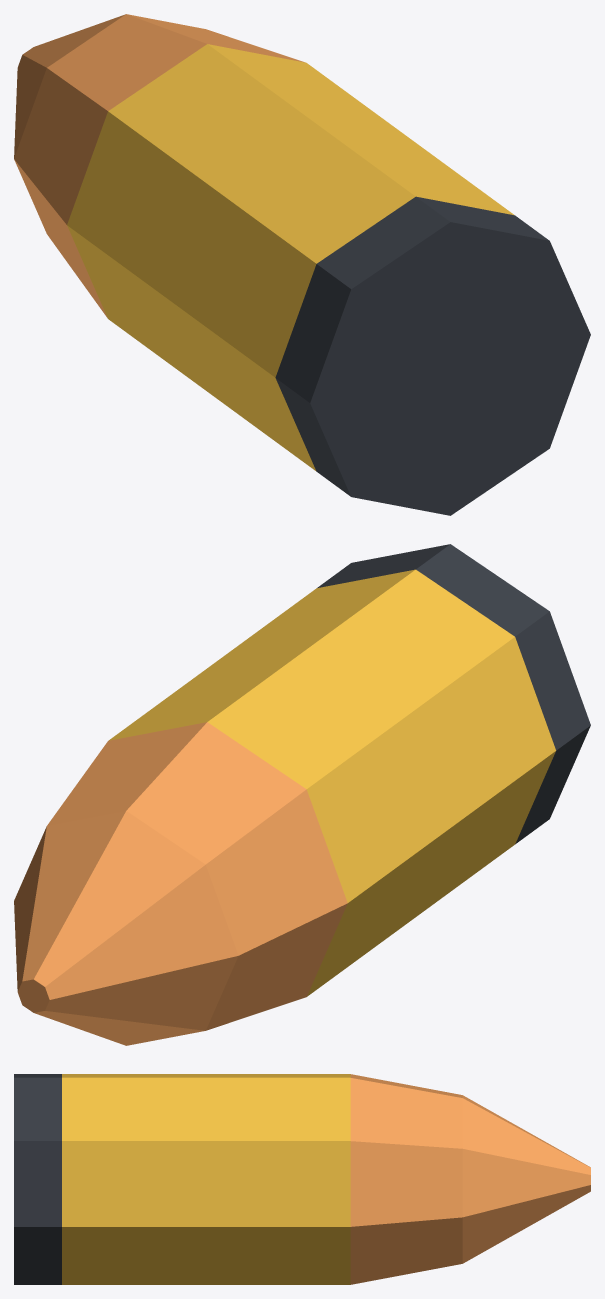
Rendered from X_BulletMermo.fbx.
3 renders of one model, top to bottom at view 1: azimuth 30°, elevation 25°; view 2: azimuth 150°, elevation 25°; view 3: azimuth 270°, elevation 25°, orthographic. The views are drawn at different scales.
Parts seen in each view (by area): view 1: X_BulletMermo; view 2: X_BulletMermo; view 3: X_BulletMermo.
Part boxes in pixels (bbox=[...]): X_BulletMermo: bbox=[14, 14, 590, 515]; X_BulletMermo: bbox=[14, 544, 590, 1045]; X_BulletMermo: bbox=[14, 1074, 590, 1284].
Bounding box in the file's own units: 0.14 × 0.14 × 0.36.
